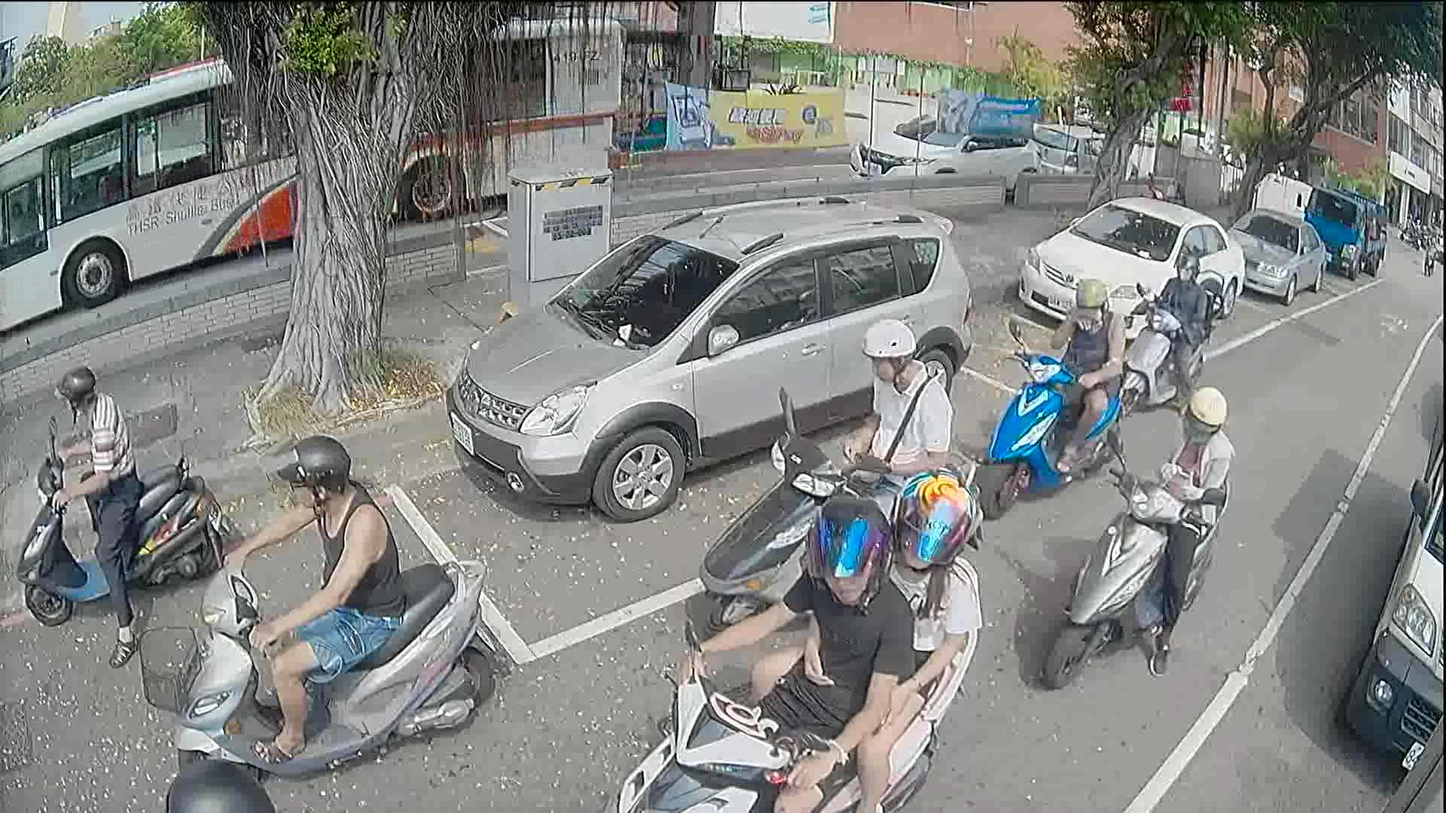person: (638, 489, 925, 811), (762, 461, 978, 812), (214, 423, 403, 769), (41, 358, 151, 668), (1130, 376, 1228, 676), (839, 313, 952, 507), (1022, 263, 1118, 474), (1149, 262, 1216, 400), (163, 744, 274, 811)
